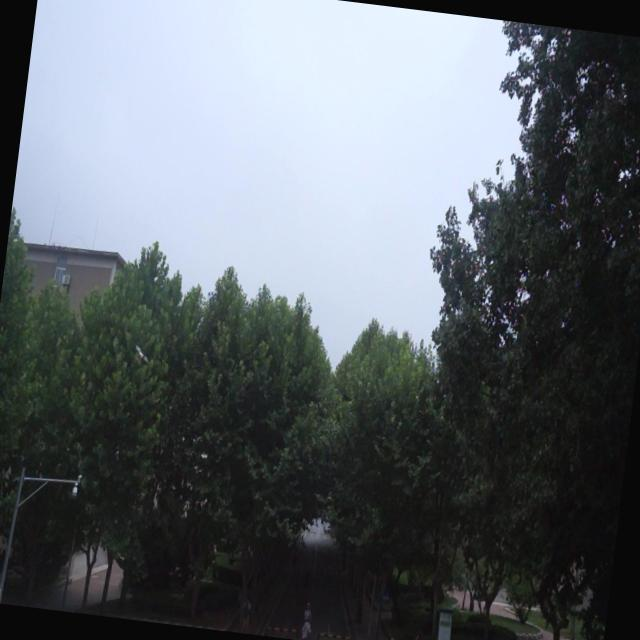drone: (130, 340, 152, 368)
